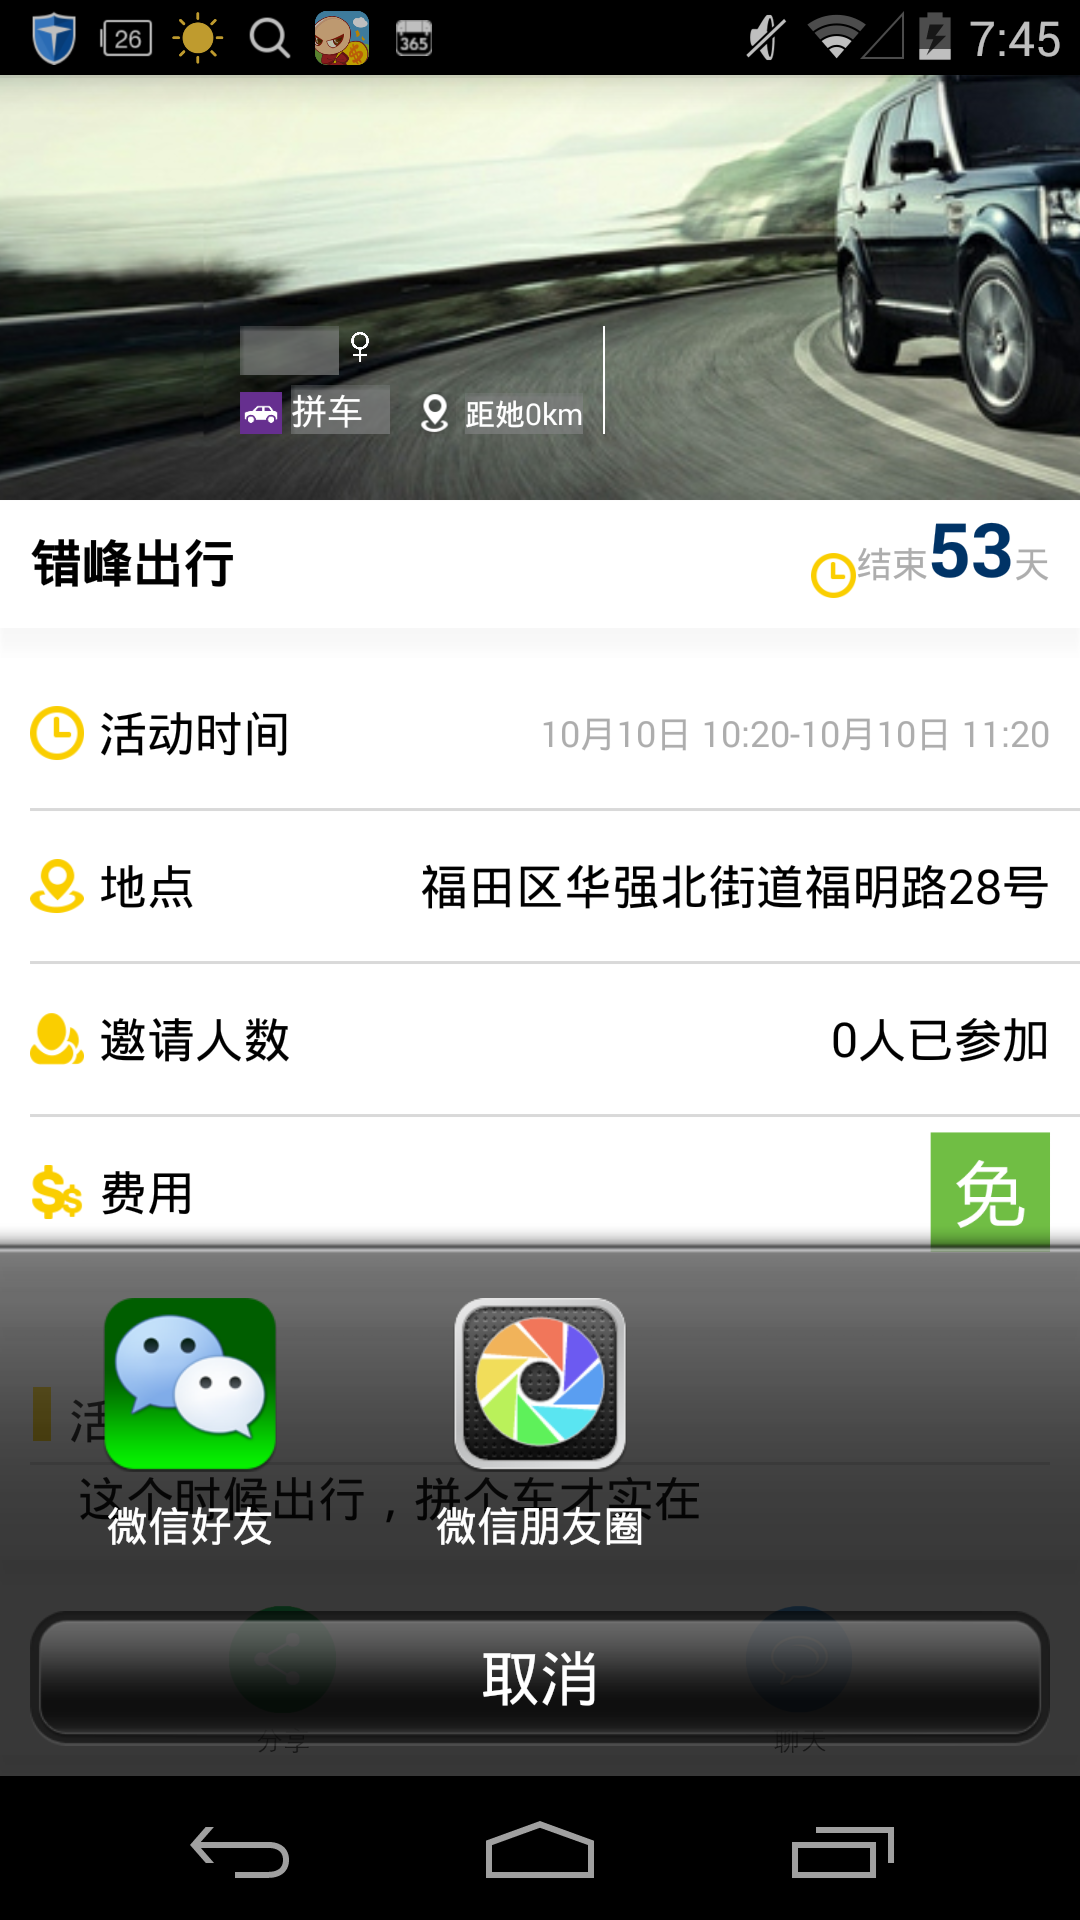button: (26, 1596, 1060, 1760)
imgbutton: (394, 1291, 719, 1564), (80, 1291, 331, 1563)
textview: (26, 508, 1080, 795)
